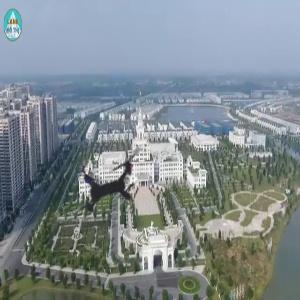drone: (41, 116, 179, 254)
